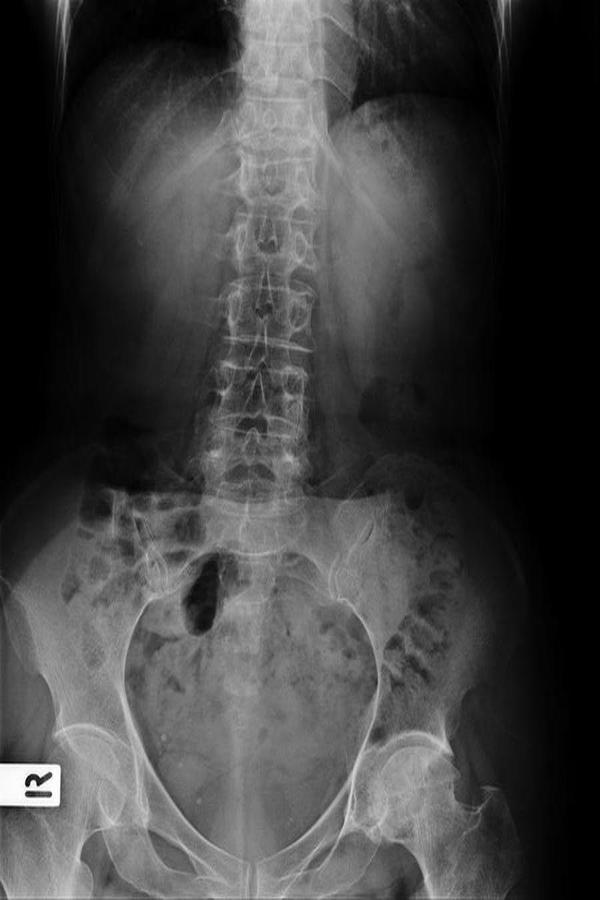lumbar scoliosis: (194, 1, 326, 549)
